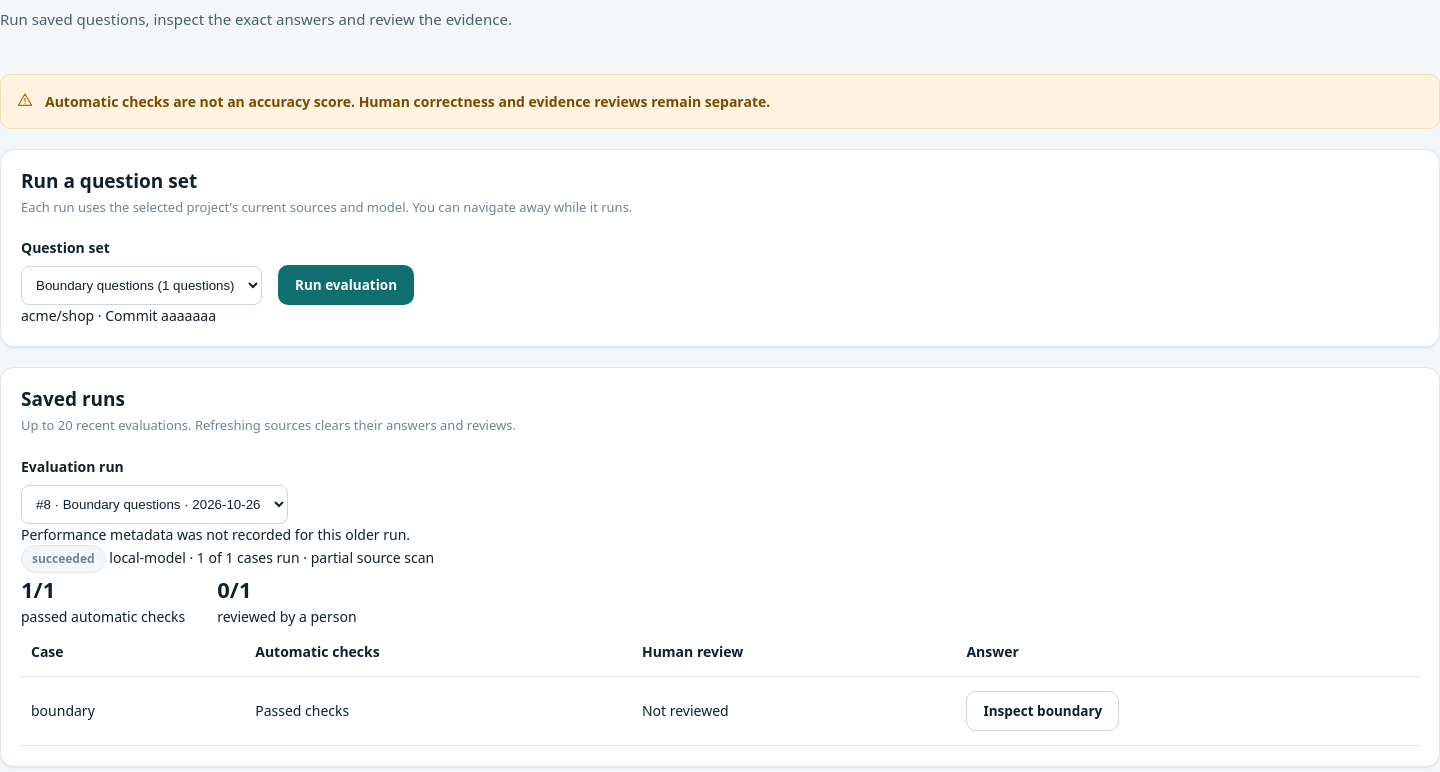
Scenario: keeps mechanical checks separate from human ratings and inspects the saved answer
Click the button "Inspect boundary" at point(1043, 711), box [966, 690, 1119, 731]
(page scrolled)
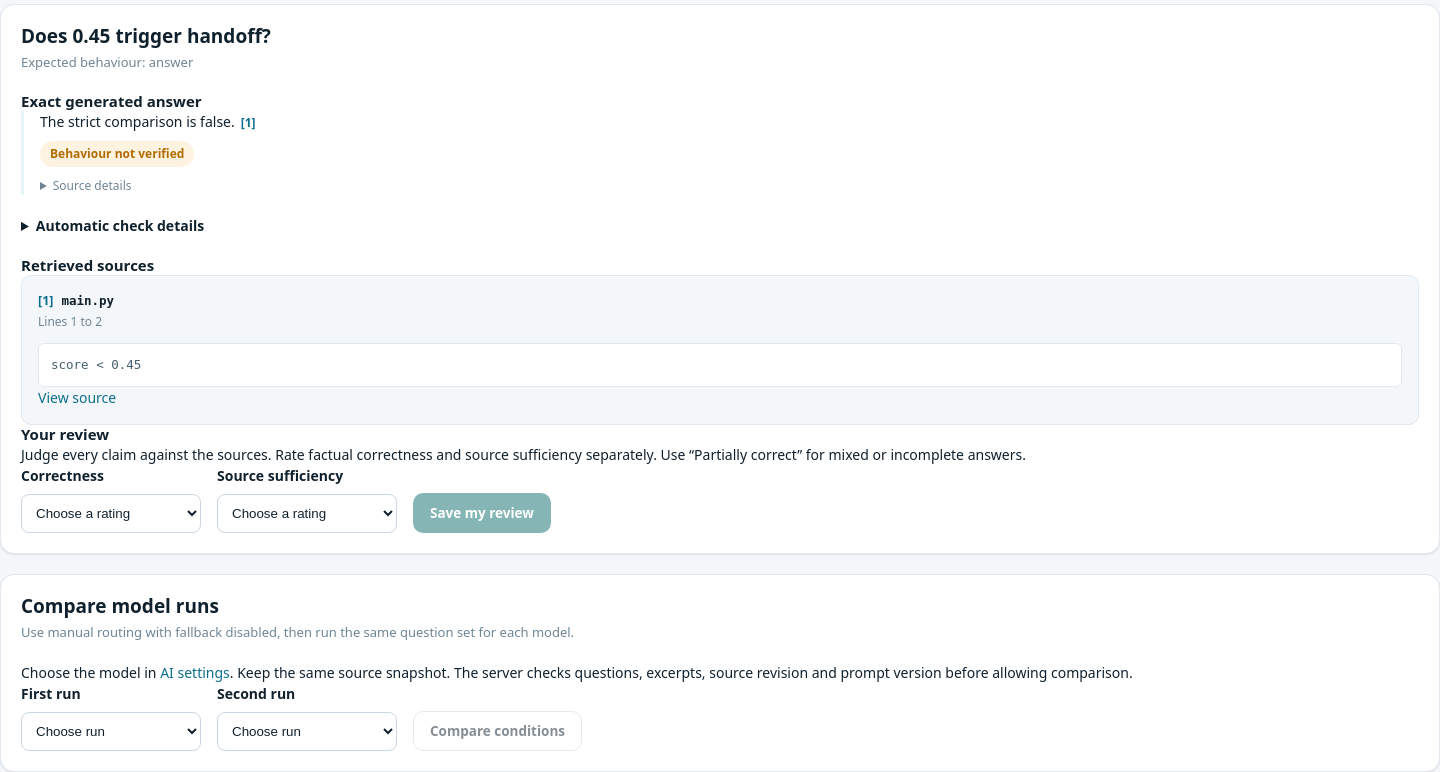
Check: the text "The strict comparison is false." is shown, box [40, 112, 235, 131]
Check: the text "score < 0.45" is shown, box [38, 343, 1402, 387]
Check: the list item with id "src-quality-8-boundary-S1" is shown, box [21, 275, 1419, 425]
Select "Incorrect" in the dropdown labelled "Correctness" at point(111, 514), box [21, 494, 201, 533]
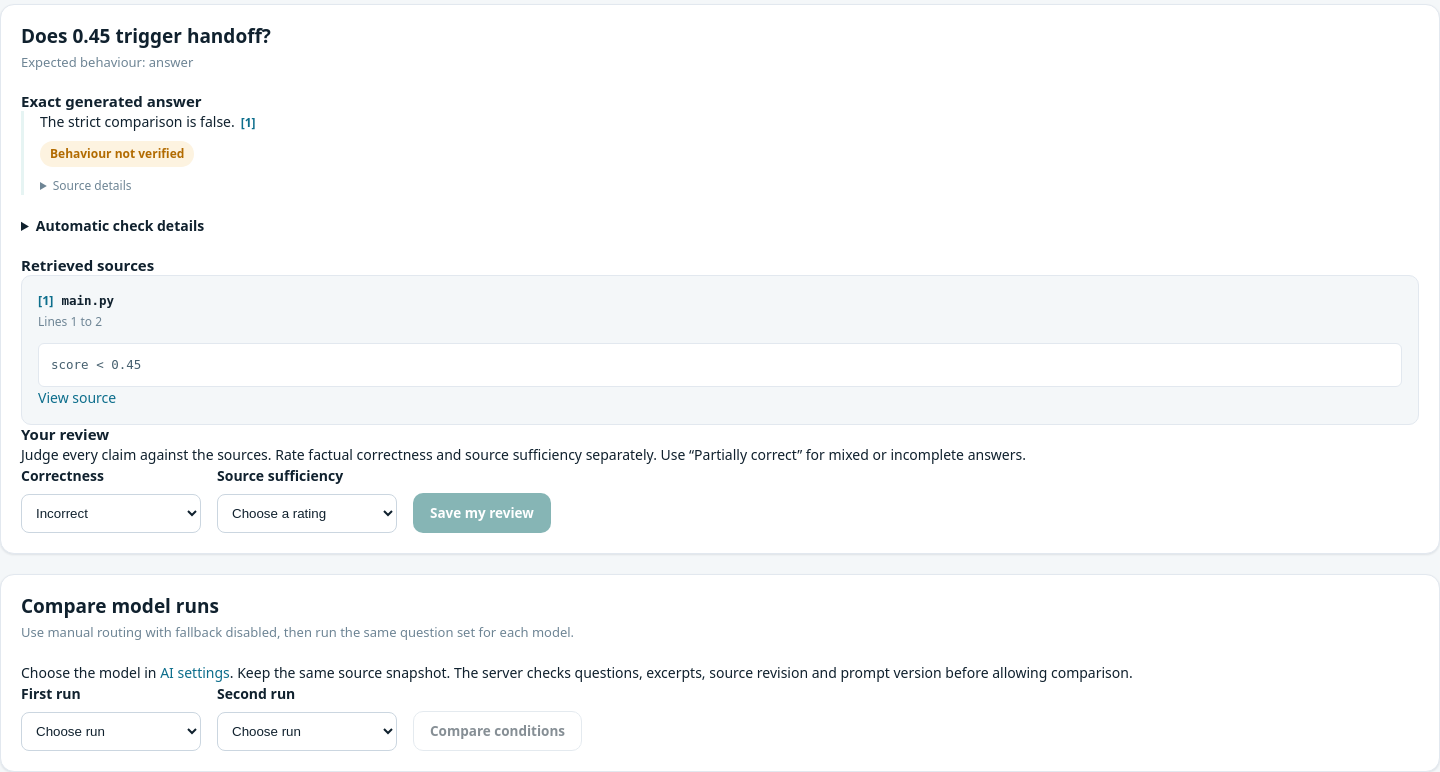
Check: the button "Save my review" is disabled, box [413, 493, 551, 533]
Select "Insufficient" in the dropdown labelled "Source sufficiency" at point(307, 514), box [217, 494, 397, 533]
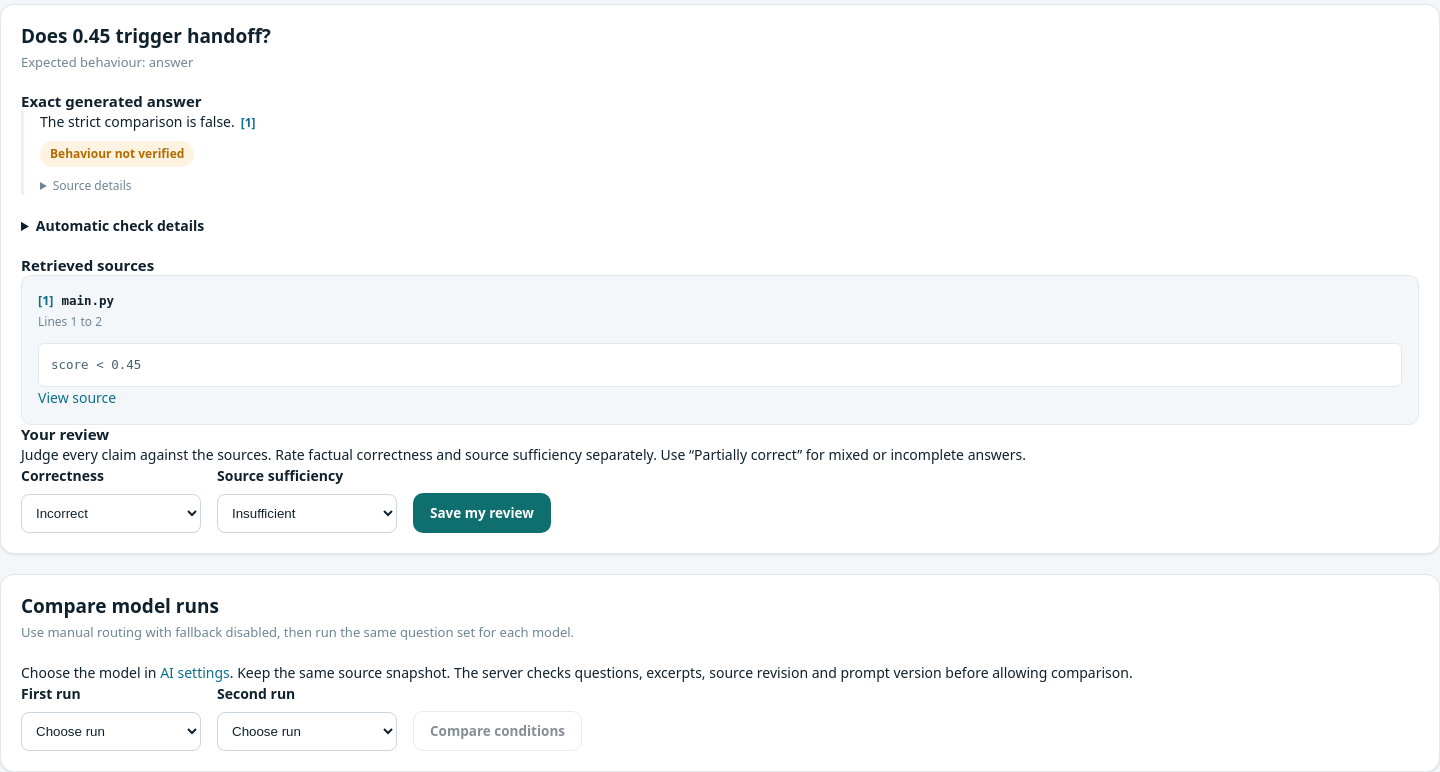
Click the button "Save my review" at point(482, 513), box [413, 493, 551, 533]
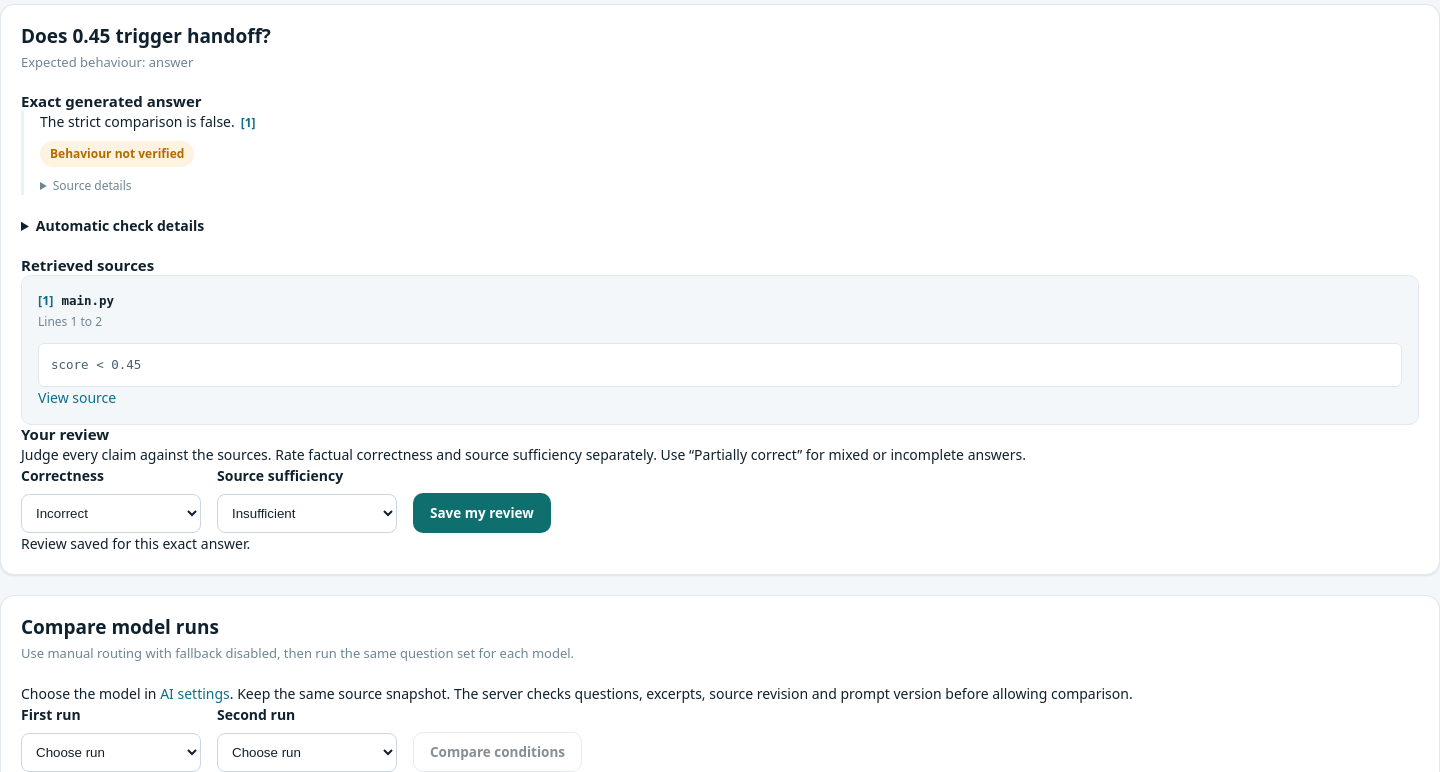
Check: the text "Review saved for this exact answer." is shown, box [21, 534, 250, 553]
